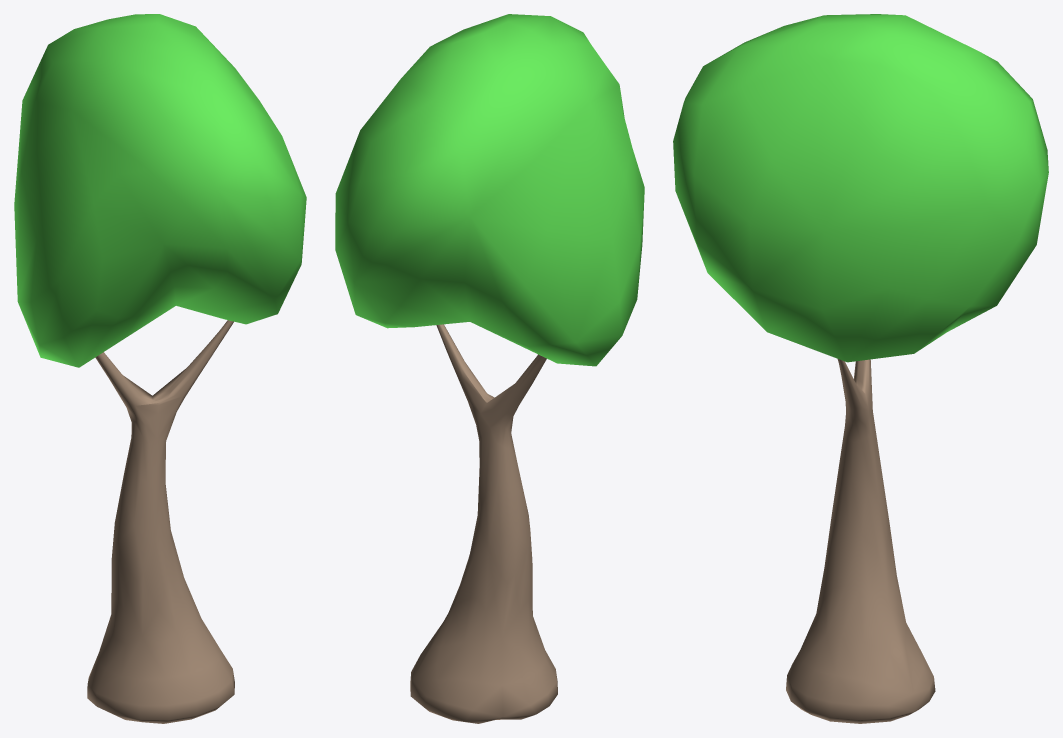
Rendered from Tree3.fbx.
3 views of the same model, side by side, from view 1: azimuth 30°, elevation 25°; view 2: azimuth 150°, elevation 25°; view 3: azimuth 270°, elevation 25° (orthographic).
Visible parts, largest first — view 1: Icosphere.001, Plane.001; view 2: Icosphere.001, Plane.001; view 3: Icosphere.001, Plane.001.
Part boxes in pixels (<box>): Icosphere.001: <box>14,14,306,367</box>; Plane.001: <box>87,320,234,723</box>; Icosphere.001: <box>335,14,644,366</box>; Plane.001: <box>410,324,557,723</box>; Icosphere.001: <box>673,14,1048,362</box>; Plane.001: <box>786,359,935,723</box>.
Bounding box in the file's own units: 104 × 278 × 139.
